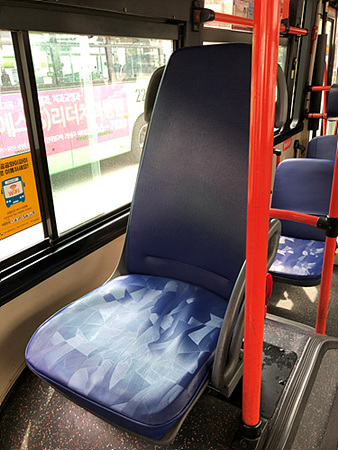seat: (28, 46, 243, 422)
